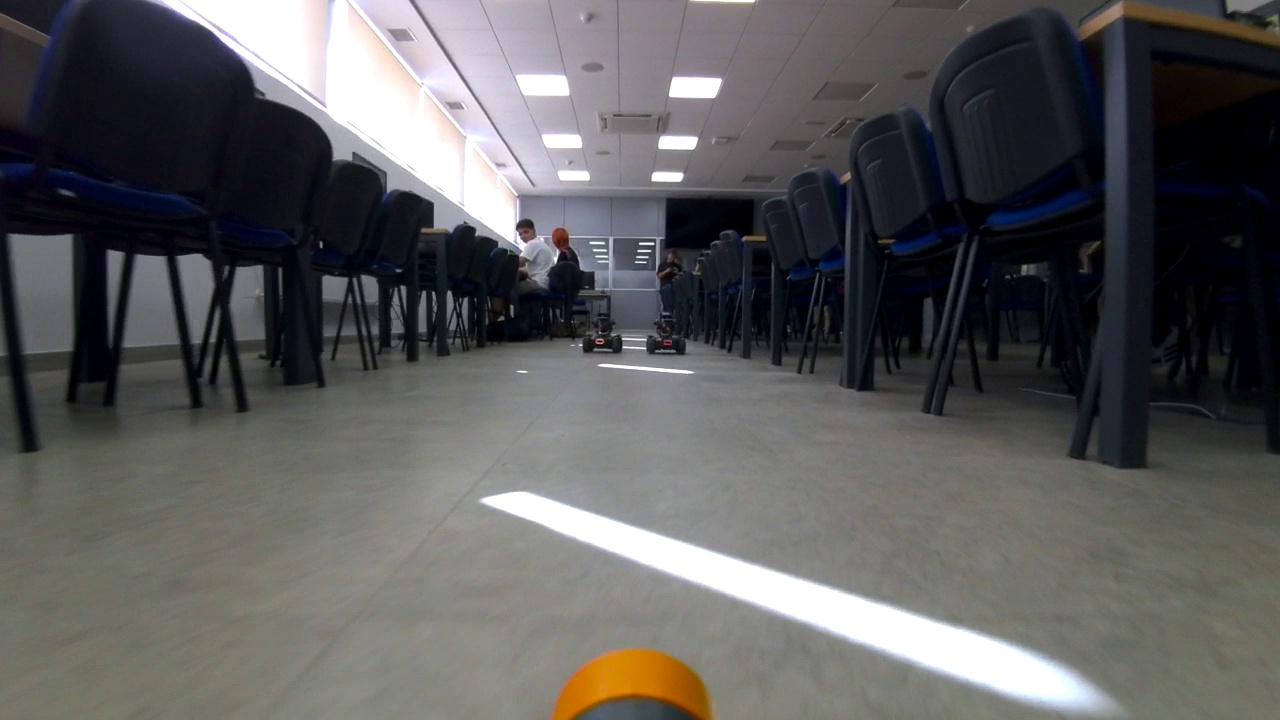robot: (578, 312, 628, 355), (642, 311, 688, 357)
